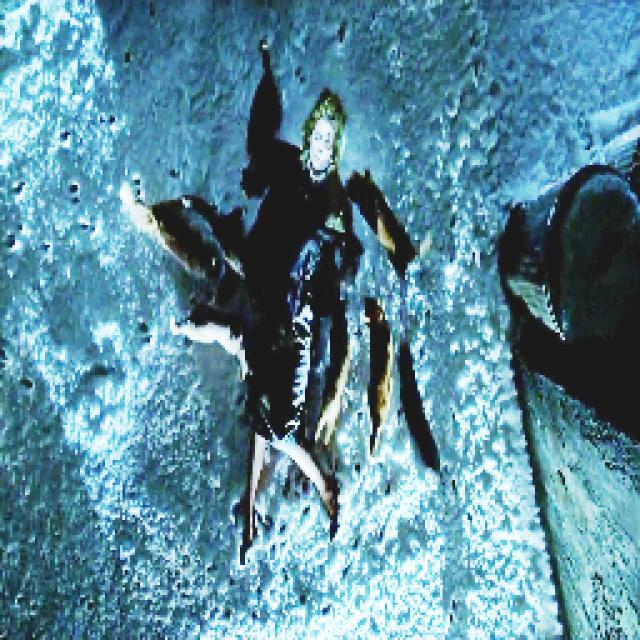cat: (102, 181, 224, 292), (149, 302, 258, 388), (389, 342, 449, 494), (349, 167, 425, 283), (178, 188, 252, 280), (351, 301, 392, 459)
